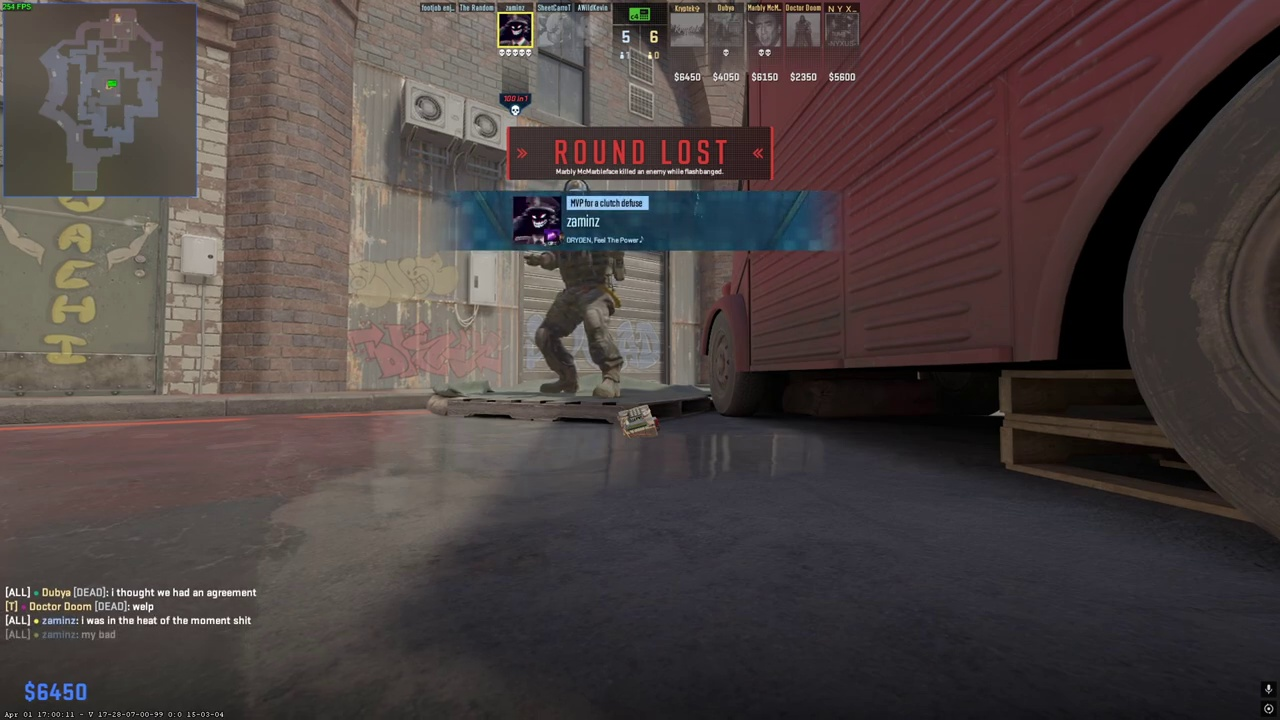CT: (530, 175, 625, 398)
